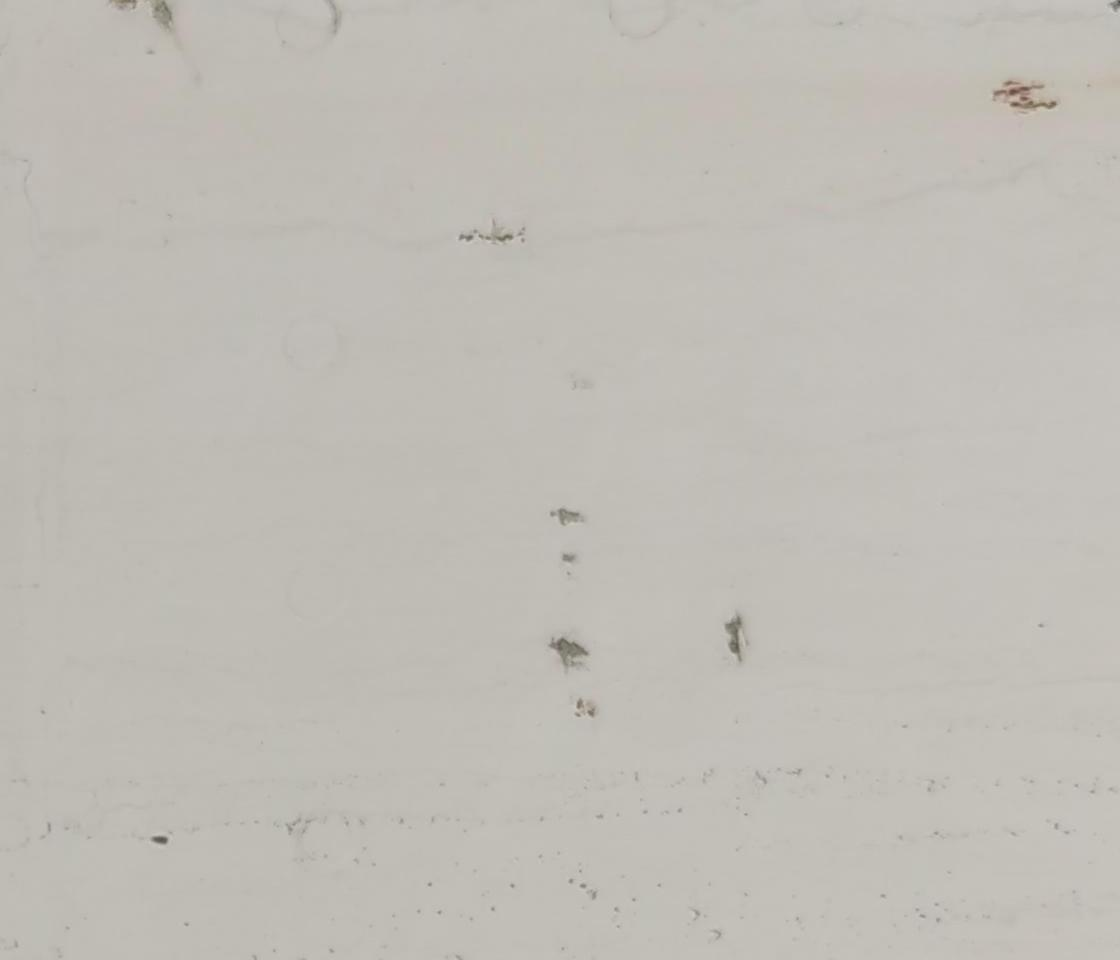paint_peel: (540, 634, 607, 671), (534, 502, 595, 531)
